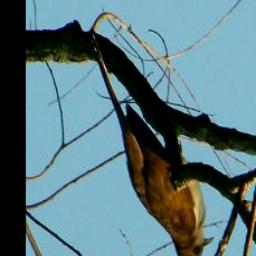Cuckoo: (123, 101, 214, 256)
